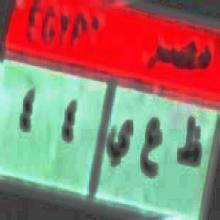4: (60, 97, 80, 154), (18, 81, 37, 138)
Thaa: (177, 119, 203, 174)
ain: (140, 111, 162, 188)
yaa: (107, 114, 133, 168)
